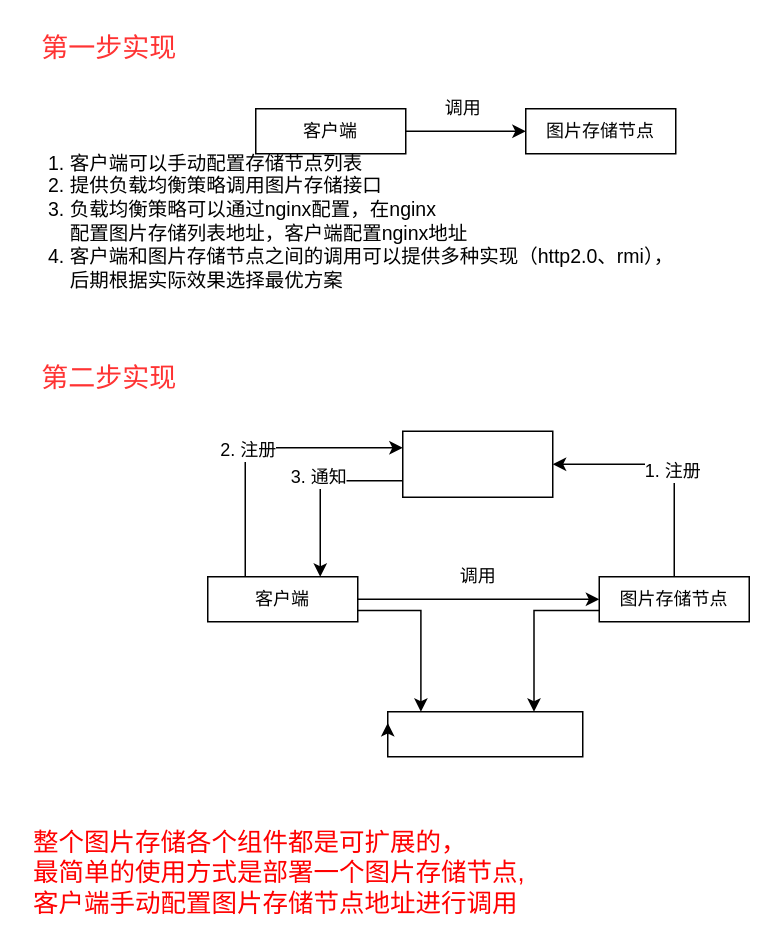
Some shapes in this 776 by 951 pixel diagram are drawn without their labels. Each missing label, with the centre of its shape:
"注册中心（nacos或者或者自己开发）" belongs at pixel 477 463.
"监控中心（可选组件）" belongs at pixel 484 733.
